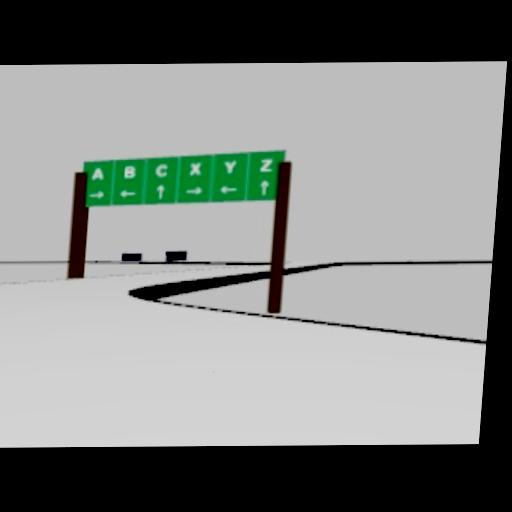A: (90, 166, 107, 181)
B: (122, 163, 138, 180)
C: (154, 162, 171, 177)
Left: (118, 188, 137, 198), (218, 184, 237, 194)
Right: (186, 185, 204, 194), (88, 190, 105, 199)
Straight: (257, 177, 271, 194), (155, 183, 166, 198)
X: (189, 161, 204, 176)
Y: (222, 159, 237, 174)
Z: (259, 157, 275, 173)
